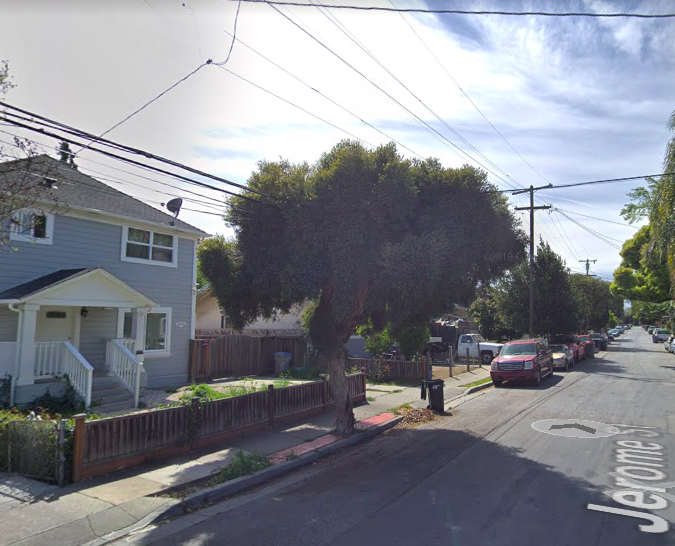tree: (194, 137, 528, 434)
